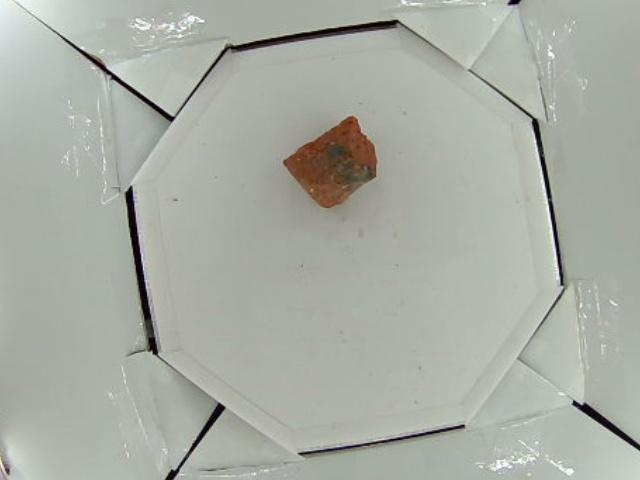Brisk: (285, 114, 375, 205)
